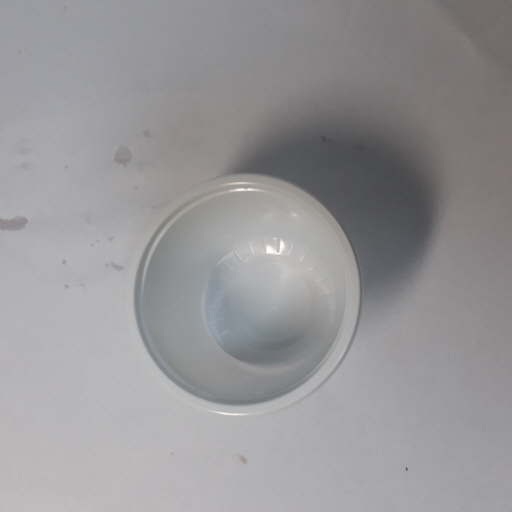Plastic_5: (124, 172, 363, 418)
